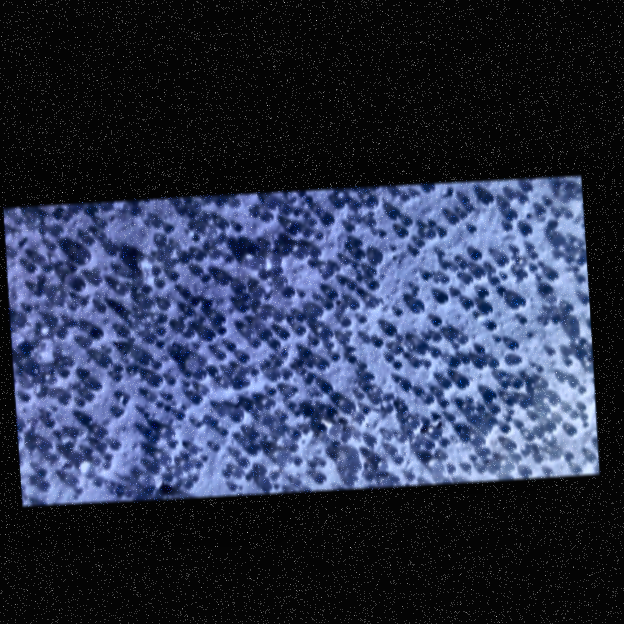GrassBeadSeg: (104, 199, 554, 461), (18, 185, 380, 491), (26, 243, 578, 432), (37, 214, 415, 477), (182, 195, 492, 489), (143, 198, 512, 444), (85, 205, 507, 414), (234, 184, 577, 436), (44, 196, 401, 428), (94, 229, 409, 484), (95, 221, 435, 452), (97, 332, 595, 483), (89, 225, 534, 391), (83, 215, 383, 456), (25, 296, 557, 431), (167, 212, 469, 448), (285, 211, 575, 455), (40, 250, 341, 483), (58, 184, 534, 329), (113, 212, 543, 372), (229, 197, 472, 478), (230, 177, 544, 381), (156, 225, 478, 419), (84, 223, 349, 452), (154, 186, 480, 369), (234, 216, 461, 472), (23, 245, 262, 478), (259, 223, 515, 438), (96, 291, 489, 431), (142, 198, 369, 436), (39, 220, 270, 453), (62, 214, 392, 377), (216, 202, 563, 352), (115, 271, 559, 379), (365, 219, 588, 428), (327, 239, 586, 416), (220, 316, 528, 464), (263, 224, 507, 410), (275, 276, 563, 433), (60, 274, 475, 378), (218, 220, 415, 435), (83, 318, 353, 474), (251, 210, 430, 443), (28, 266, 259, 441), (78, 349, 575, 430), (306, 194, 496, 405), (386, 192, 518, 482), (231, 199, 568, 312), (155, 338, 559, 432), (49, 280, 252, 467), (143, 259, 352, 437), (320, 310, 541, 478), (148, 267, 554, 356), (343, 247, 527, 440), (223, 345, 485, 477), (77, 278, 404, 383), (112, 198, 297, 381), (142, 267, 305, 471), (245, 386, 589, 480), (88, 281, 381, 391), (58, 290, 340, 404), (386, 245, 535, 456), (89, 196, 315, 334), (400, 193, 531, 431), (289, 225, 432, 440), (260, 268, 567, 365), (254, 186, 497, 298), (265, 201, 432, 361), (288, 230, 448, 396), (46, 302, 358, 386), (96, 327, 335, 436), (157, 219, 378, 335), (363, 197, 520, 360), (56, 328, 292, 436), (117, 286, 264, 455), (356, 205, 476, 398), (38, 299, 157, 493), (278, 201, 362, 467), (59, 354, 429, 405), (71, 369, 328, 438), (401, 297, 589, 391), (34, 250, 319, 311), (276, 208, 366, 399), (293, 240, 364, 482), (235, 248, 310, 477), (237, 304, 501, 368), (66, 416, 279, 492), (235, 374, 571, 422), (241, 294, 471, 364), (67, 254, 270, 333), (141, 276, 574, 313), (257, 329, 359, 486), (308, 220, 395, 399), (458, 261, 581, 387), (148, 363, 329, 446), (28, 364, 329, 411), (50, 263, 274, 324), (156, 328, 252, 465), (142, 306, 264, 413), (447, 265, 573, 368), (283, 337, 588, 379), (206, 418, 402, 482), (395, 259, 510, 367), (359, 303, 494, 391), (440, 365, 580, 446), (191, 408, 339, 482), (424, 268, 483, 449), (306, 360, 586, 394), (259, 248, 385, 319), (315, 189, 418, 275), (265, 384, 503, 421), (110, 379, 234, 450), (81, 399, 195, 470), (288, 182, 436, 236), (366, 249, 500, 307), (337, 277, 431, 357), (360, 322, 499, 375), (501, 274, 579, 367), (278, 329, 458, 368), (258, 240, 426, 281), (98, 337, 149, 472), (203, 403, 298, 475), (392, 195, 545, 239), (455, 297, 528, 389), (441, 434, 596, 477), (9, 312, 135, 363), (10, 204, 131, 257), (292, 440, 428, 486), (425, 336, 518, 403), (357, 209, 403, 335), (198, 208, 306, 260), (217, 198, 257, 337), (374, 291, 460, 355), (229, 201, 322, 258), (18, 362, 81, 444), (152, 357, 211, 443), (63, 220, 120, 305), (133, 240, 225, 292), (186, 298, 247, 376), (26, 443, 111, 498), (342, 344, 405, 414), (126, 446, 205, 496), (433, 269, 487, 341), (159, 251, 263, 288), (305, 428, 389, 471), (159, 206, 223, 261), (20, 321, 75, 385), (470, 250, 587, 279), (449, 378, 524, 423), (26, 299, 88, 353), (434, 398, 532, 432), (229, 310, 273, 385), (535, 415, 588, 476), (43, 212, 78, 304), (302, 301, 358, 357), (508, 348, 556, 413), (76, 480, 244, 498), (423, 349, 590, 367), (501, 237, 566, 283), (270, 314, 320, 372), (230, 472, 375, 491), (506, 434, 574, 473), (133, 201, 213, 234), (540, 183, 581, 247), (298, 280, 362, 320), (335, 202, 371, 271), (410, 267, 463, 312), (430, 302, 472, 358), (285, 192, 375, 218), (82, 302, 146, 338), (295, 433, 362, 467), (510, 403, 562, 444), (304, 405, 367, 437), (290, 392, 317, 464), (449, 225, 475, 298), (538, 243, 586, 282), (411, 250, 450, 298), (191, 336, 216, 405), (362, 405, 411, 439), (335, 439, 379, 474), (169, 354, 217, 386), (401, 396, 450, 426), (234, 283, 252, 363), (471, 441, 517, 472), (366, 465, 457, 480), (456, 416, 525, 435), (289, 360, 324, 396), (147, 393, 175, 437), (187, 350, 228, 379), (191, 195, 219, 237), (133, 300, 172, 328), (499, 345, 523, 388), (452, 425, 473, 474), (183, 443, 222, 467), (181, 307, 198, 355), (279, 386, 299, 421), (139, 333, 159, 365), (96, 483, 135, 498), (556, 404, 586, 420), (271, 197, 284, 209), (256, 294, 270, 305), (68, 477, 81, 485), (330, 353, 340, 356)
